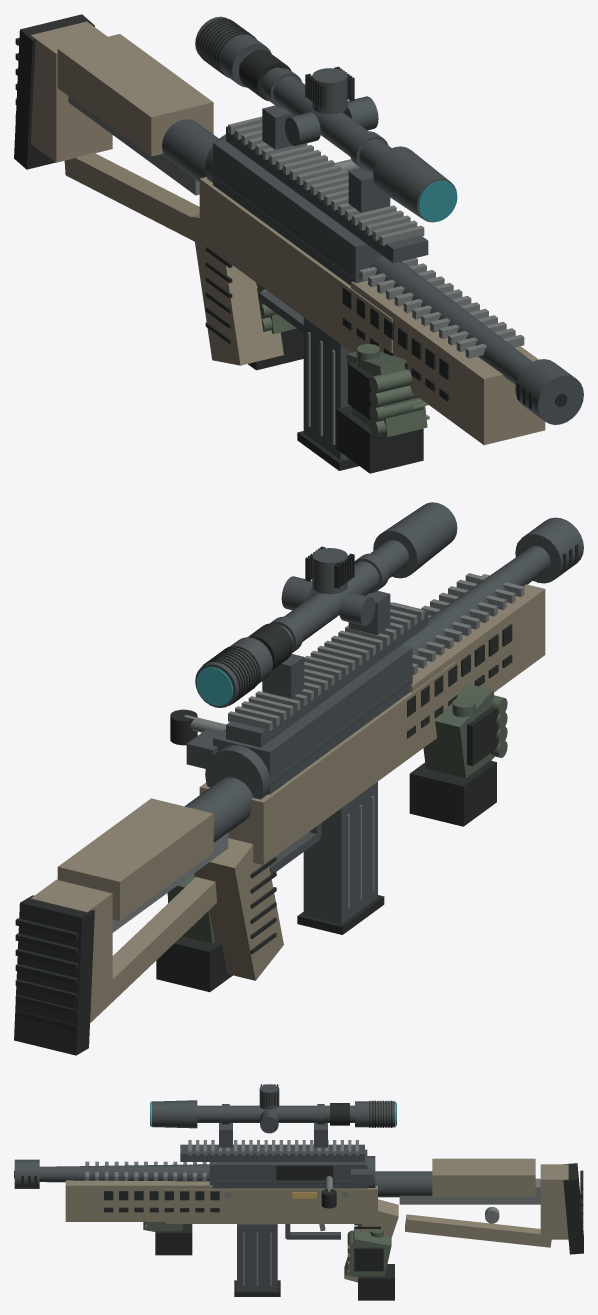
Rendered from kestrel.glb.
The picture shows the model from 3 angles, top to bottom: view 1: azimuth 30°, elevation 25°; view 2: azimuth 150°, elevation 25°; view 3: azimuth 270°, elevation 25°; orthographic projection. The views are drawn at different scales.
Parts seen in each view (by area): view 1: static_batch_0_3, static_batch_0_0, static_batch_0_1, static_batch_140_0, static_batch_0_2, static_batch_192_2, static_batch_192_6, magazine_body, static_batch_140_2, lens_front, turret_elevation, zoom_ring (+6 smaller); view 2: static_batch_0_3, static_batch_0_0, static_batch_0_2, static_batch_140_0, static_batch_0_1, magazine_body, static_batch_192_2, static_batch_192_6, static_batch_179_2, static_batch_140_2, turret_elevation, lens_rear (+7 smaller); view 3: static_batch_0_3, static_batch_0_0, static_batch_140_0, static_batch_0_2, static_batch_0_1, magazine_body, static_batch_179_2, static_batch_179_6, static_batch_192_2, static_batch_140_2, zoom_ring, turret_elevation (+5 smaller).
Boxes of the visible parts, x1,y1,x2,y2 form: static_batch_0_3: (31, 21, 545, 445); static_batch_0_0: (161, 119, 583, 424); static_batch_0_1: (68, 96, 524, 358); static_batch_140_0: (195, 16, 456, 222); static_batch_0_2: (14, 14, 567, 409); static_batch_192_2: (336, 362, 423, 473); static_batch_192_6: (346, 344, 427, 437); magazine_body: (303, 317, 351, 460); static_batch_140_2: (197, 18, 354, 108); lens_front: (418, 180, 457, 222); turret_elevation: (312, 68, 347, 114); zoom_ring: (239, 49, 291, 100); static_batch_0_3: (30, 574, 545, 1022); static_batch_0_0: (184, 517, 583, 873); static_batch_0_2: (14, 543, 578, 1055); static_batch_140_0: (195, 502, 457, 707); static_batch_0_1: (112, 573, 524, 932); magazine_body: (303, 781, 377, 924); static_batch_192_2: (409, 707, 498, 826); static_batch_192_6: (423, 683, 507, 777); static_batch_179_2: (156, 899, 232, 992); static_batch_140_2: (201, 546, 354, 705); turret_elevation: (312, 548, 347, 594); lens_rear: (196, 667, 233, 706); static_batch_0_3: (65, 1158, 568, 1282); static_batch_0_0: (14, 1144, 432, 1239); static_batch_140_0: (151, 1100, 395, 1147); static_batch_0_2: (14, 1163, 583, 1254); static_batch_0_1: (85, 1140, 540, 1231); magazine_body: (237, 1224, 277, 1291); static_batch_179_2: (354, 1247, 394, 1300); static_batch_179_6: (346, 1229, 391, 1277); static_batch_192_2: (155, 1224, 192, 1255); static_batch_140_2: (260, 1084, 392, 1127); zoom_ring: (330, 1103, 349, 1125); turret_elevation: (259, 1084, 279, 1109).
Size of the model in its own units: 0.198 by 0.411 by 1.05.
